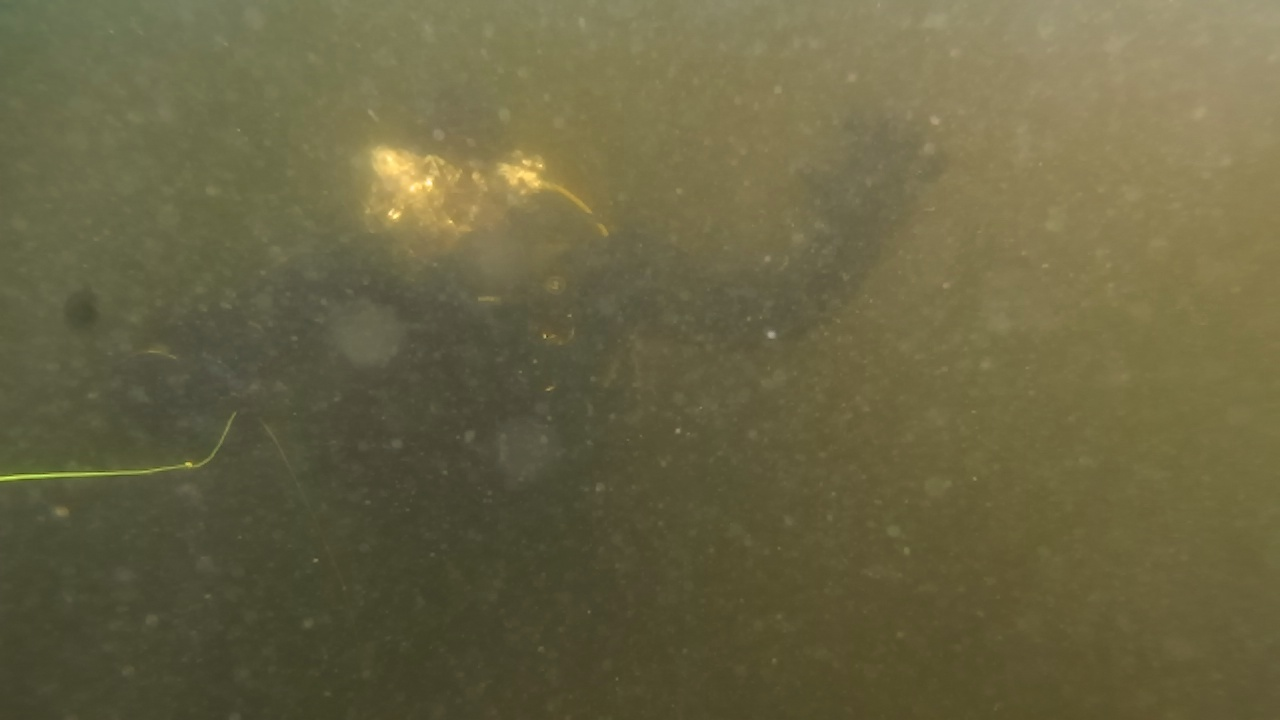Hand: (804, 92, 958, 302)
